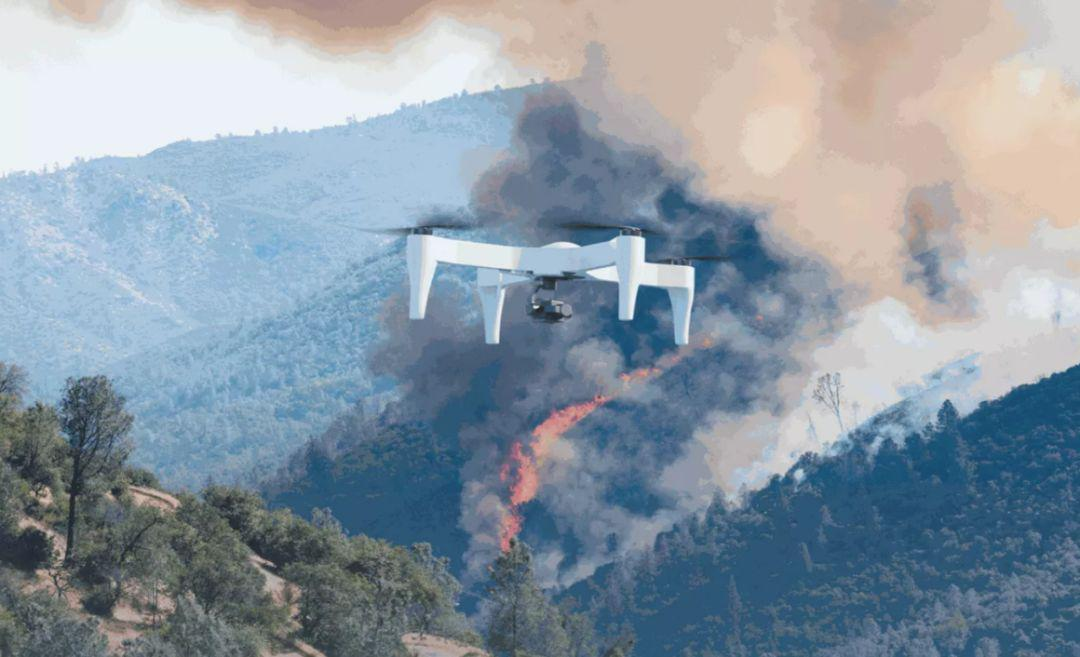fire: (493, 373, 613, 561), (612, 328, 675, 395), (690, 309, 723, 358), (749, 296, 763, 317)
